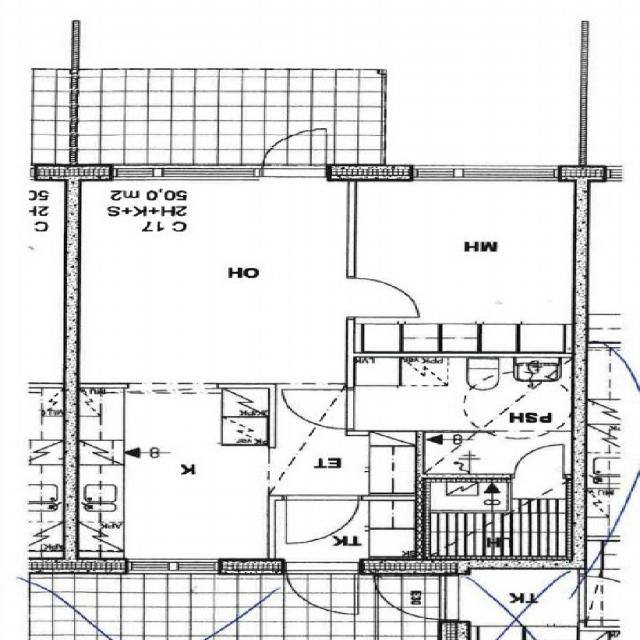door: (284, 559, 358, 620), (262, 125, 327, 182), (285, 496, 358, 546), (282, 390, 355, 429), (346, 279, 416, 317), (515, 444, 562, 482)
